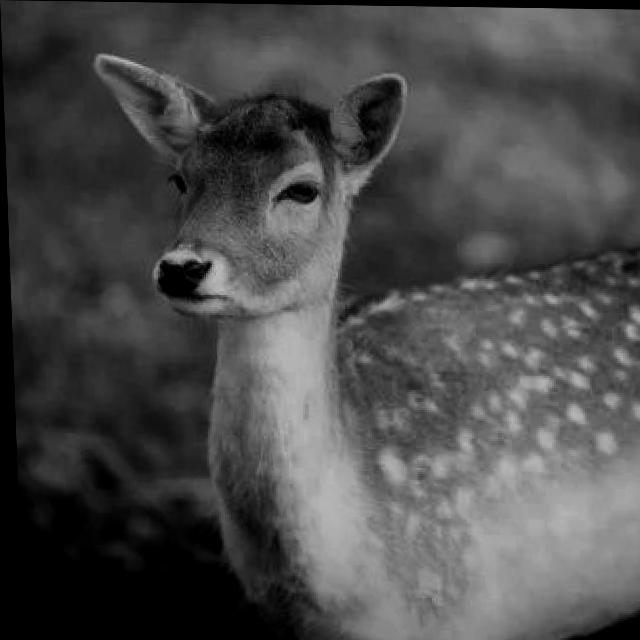Deer: (122, 40, 640, 639)
